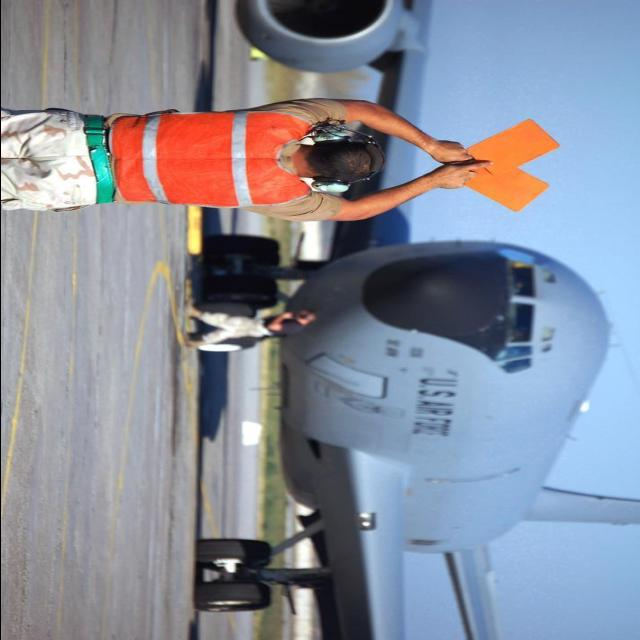jacket: (104, 93, 326, 217)
